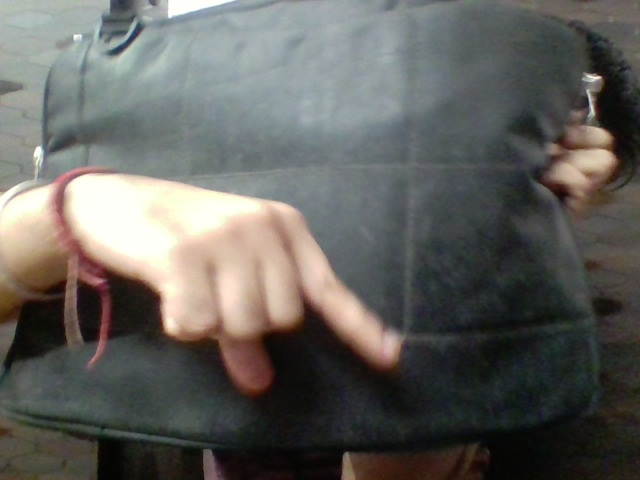p: (118, 138, 432, 410)
